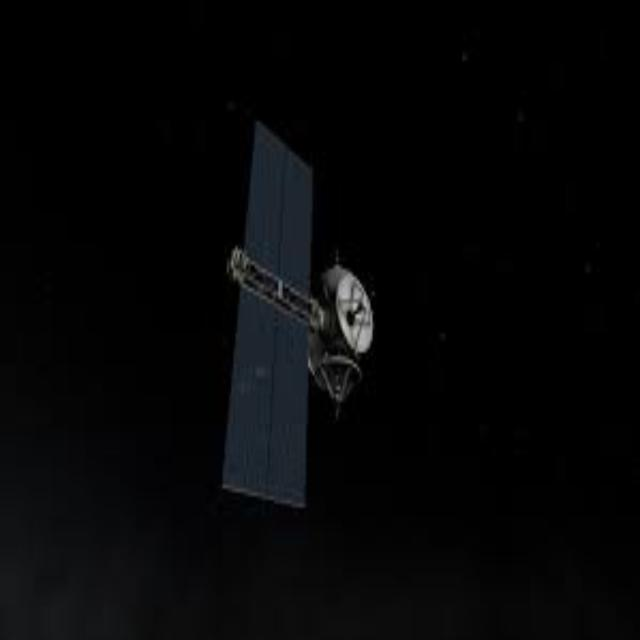satellite: (173, 76, 400, 538)
